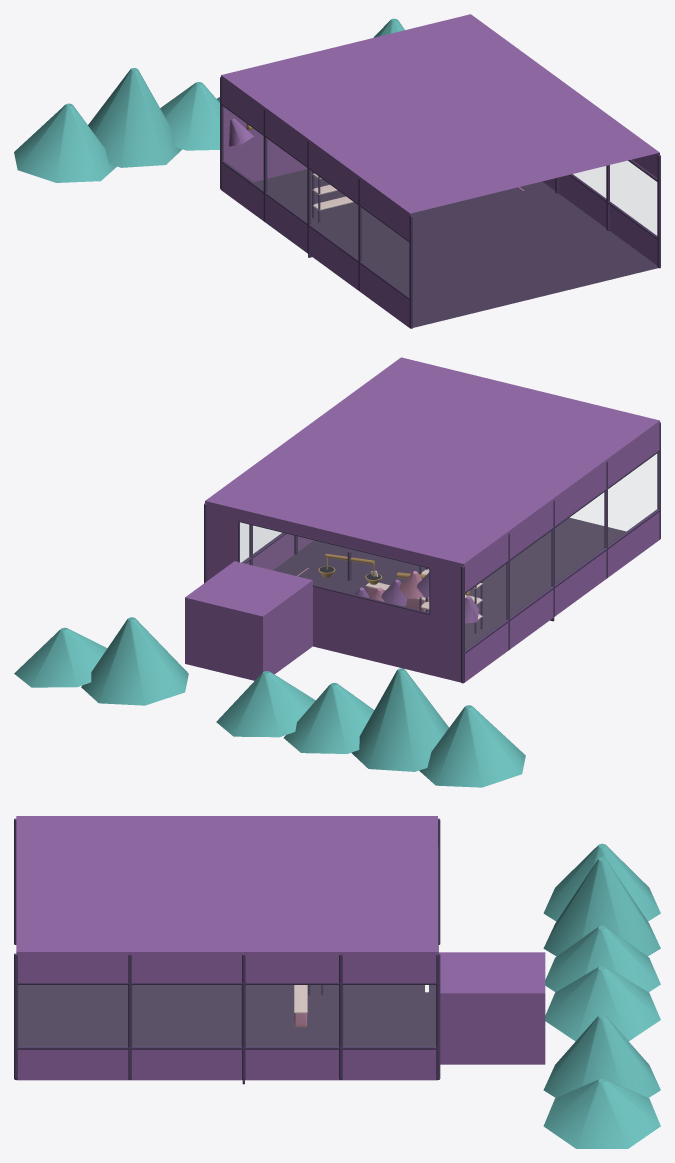
The model's file is depot.glb.
3 views of the same model, one above another, from view 1: azimuth 30°, elevation 25°; view 2: azimuth 150°, elevation 25°; view 3: azimuth 270°, elevation 25° (orthographic). The views are drawn at different scales.
Visible parts, largest first — view 1: Roof panels - Wall, Floor extension - Floor, Outside the glazing - Glass rim, Port wall - Wall, Floor - Floor, Port wall - Rib, Starboard wall - Wall, Rear bulkhead - Wall, Starboard wall - Rib, Goods shelf - Pale; view 2: Roof panels - Wall, Outside the glazing - Glass rim, Rear bulkhead - Wall, Port wall - Wall, Stockroom - Wall, Floor extension - Floor, Store lid - Wall, Port wall - Rib, Floor - Floor, Signature architecture - Wall, Starboard wall - Wall, Rear bulkhead - Rib (+1 smaller); view 3: Roof panels - Wall, Outside the glazing - Glass rim, Starboard wall - Wall, Floor extension - Floor, Floor - Floor, Stockroom - Wall, Starboard wall - Rib, Store lid - Wall, Port wall - Rib.
Part boxes in pixels (box(x1,y1,x2,y2)): Roof panels - Wall: box(221, 14, 659, 213); Floor extension - Floor: box(341, 193, 657, 327); Outside the glazing - Glass rim: box(14, 18, 404, 182); Port wall - Wall: box(221, 75, 410, 327); Floor - Floor: box(253, 169, 555, 245); Port wall - Rib: box(220, 77, 412, 328); Starboard wall - Wall: box(542, 153, 659, 265); Rear bulkhead - Wall: box(223, 107, 307, 181); Starboard wall - Rib: box(555, 154, 660, 268); Goods shelf - Pale: box(312, 173, 353, 210); Roof panels - Wall: box(205, 357, 659, 563); Outside the glazing - Glass rim: box(14, 617, 525, 787); Rear bulkhead - Wall: box(205, 501, 463, 682); Port wall - Wall: box(464, 421, 659, 682); Stockroom - Wall: box(185, 580, 312, 680); Floor extension - Floor: box(297, 517, 626, 608); Store lid - Wall: box(185, 561, 312, 616); Port wall - Rib: box(461, 422, 660, 683); Floor - Floor: box(273, 554, 519, 649); Signature architecture - Wall: box(354, 572, 478, 623); Starboard wall - Wall: box(246, 534, 313, 570); Rear bulkhead - Rib: box(238, 520, 430, 614); Roof panels - Wall: box(16, 816, 437, 951); Outside the glazing - Glass rim: box(543, 843, 660, 1148); Starboard wall - Wall: box(16, 952, 437, 1080); Floor extension - Floor: box(18, 985, 241, 1046); Floor - Floor: box(246, 985, 435, 1046); Stockroom - Wall: box(440, 993, 545, 1064); Starboard wall - Rib: box(14, 953, 440, 1079); Store lid - Wall: box(438, 952, 545, 993); Port wall - Rib: box(14, 818, 440, 944).
Size of the model in its own units: 36.79 by 9.43 by 38.64.
